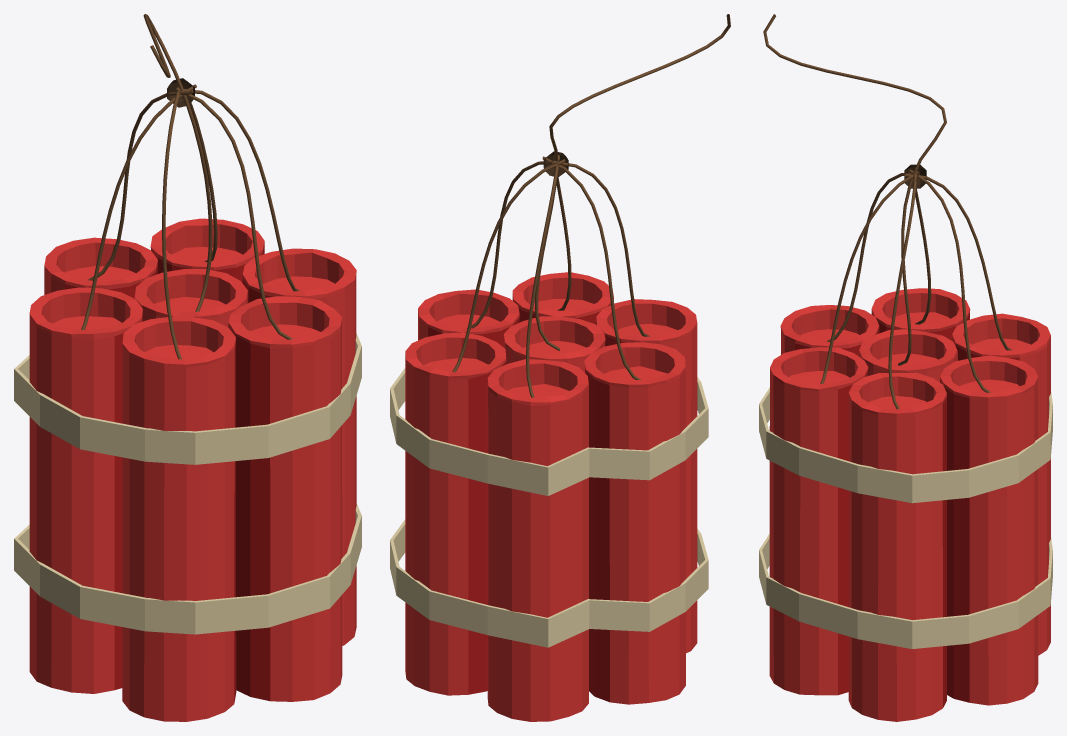
The model's file is granata2.glb.
The picture shows the model from 3 angles, left to right: view 1: azimuth 30°, elevation 25°; view 2: azimuth 150°, elevation 25°; view 3: azimuth 270°, elevation 25°; orthographic projection. The views are drawn at different scales.
Visible parts, largest first — view 1: TNT; view 2: TNT; view 3: TNT.
Boxes of the visible parts, x1,y1,x2,y2 form: TNT: (14,14,361,721); TNT: (390,14,730,721); TNT: (759,14,1052,721).
Size of the model in its own units: 0.3874 by 0.825 by 0.3688.
